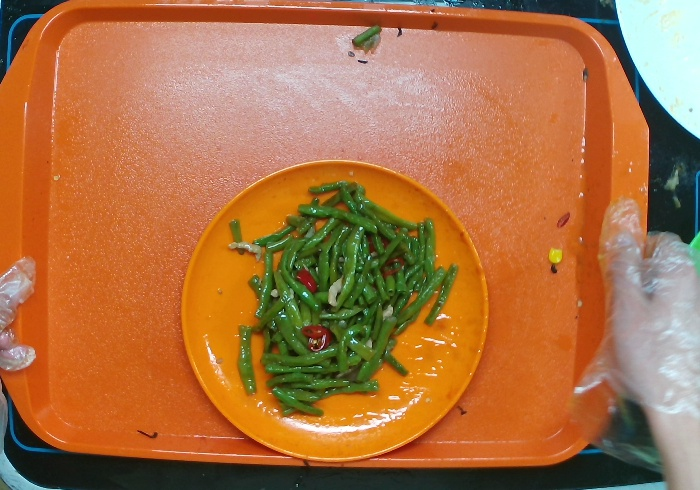HZYJPL-Ju_Huang_Yuan_Pan: (179, 157, 490, 464)
